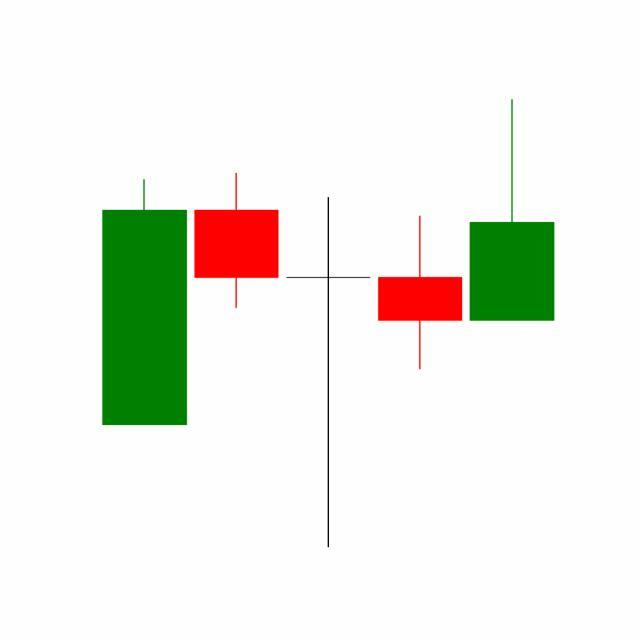Gravestone Doji: (374, 215, 468, 372)
